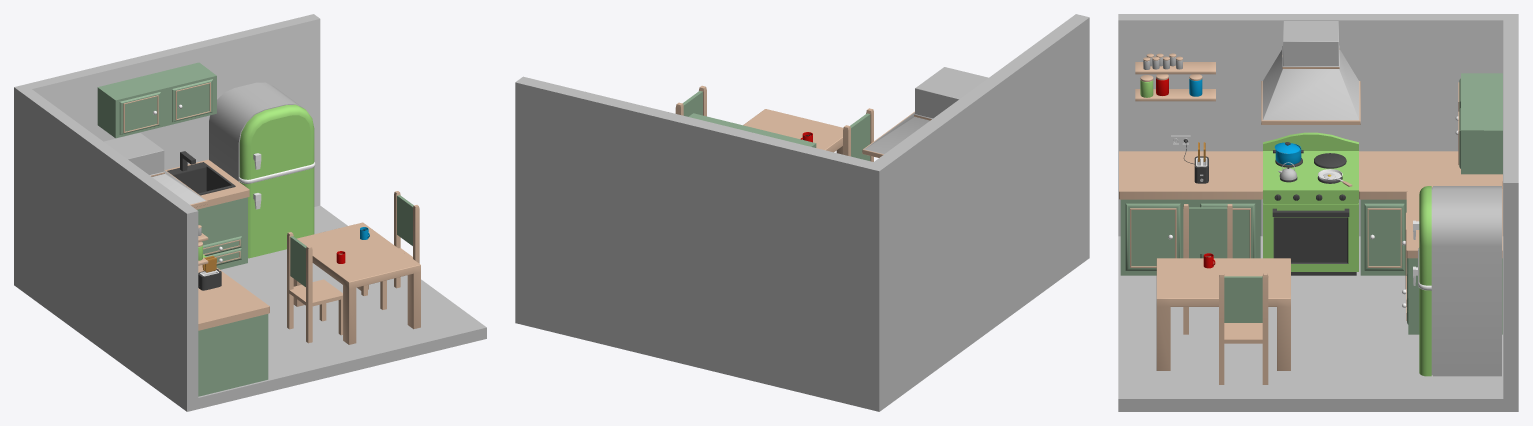
The model's file is Kitchen.glb.
3 renders of one model, left to right at view 1: azimuth 30°, elevation 25°; view 2: azimuth 150°, elevation 25°; view 3: azimuth 270°, elevation 25°, orthographic. The views are drawn at different scales.
Visible parts, largest first — view 1: Room, Table, FridgeDoorsTop, Table.002, Table.003, DinnerTableTop, Fridge, DinnerTable, FridgeDoors, Chair.001, Vent, TableDoors (+3 smaller); view 2: Room, Vent, DinnerTableTop, Chair.001, Table.003, Chair; view 3: Room, Fridge, Table, Oven, Vent, Table.001, Table.003, DinnerTableTop, Chair, DinnerTable, Chair.001, FridgeDoors (+7 smaller).
Boxes of the visible parts, bbox=[...] form: Room: bbox=[14, 14, 486, 411]; Table: bbox=[198, 265, 269, 396]; FridgeDoorsTop: bbox=[251, 115, 310, 257]; Table.002: bbox=[166, 151, 249, 269]; Table.003: bbox=[97, 62, 216, 138]; DinnerTableTop: bbox=[297, 222, 419, 281]; Fridge: bbox=[209, 82, 302, 181]; DinnerTable: bbox=[293, 225, 420, 344]; FridgeDoors: bbox=[238, 104, 315, 258]; Chair.001: bbox=[287, 232, 342, 343]; Vent: bbox=[104, 133, 207, 207]; TableDoors: bbox=[125, 83, 209, 131]; Room: bbox=[515, 14, 1089, 411]; Vent: bbox=[862, 67, 988, 157]; DinnerTableTop: bbox=[743, 109, 843, 149]; Chair.001: bbox=[843, 108, 873, 161]; Table.003: bbox=[688, 113, 816, 147]; Chair: bbox=[675, 85, 706, 116]; Room: bbox=[1118, 14, 1518, 411]; Fridge: bbox=[1431, 186, 1501, 376]; Table: bbox=[1119, 151, 1262, 275]; Oven: bbox=[1263, 132, 1358, 275]; Vent: bbox=[1261, 21, 1360, 124]; Table.001: bbox=[1359, 151, 1502, 275]; Table.003: bbox=[1458, 73, 1502, 174]; DinnerTableTop: bbox=[1157, 258, 1290, 298]; Chair: bbox=[1219, 273, 1268, 384]; DinnerTable: bbox=[1156, 258, 1290, 370]; Chair.001: bbox=[1183, 204, 1232, 334]; FridgeDoors: bbox=[1418, 186, 1431, 376].
Bounding box in the file's own units: 8.32 × 5.25 × 8.32.
Materials: 14 (1 with a texture image).
